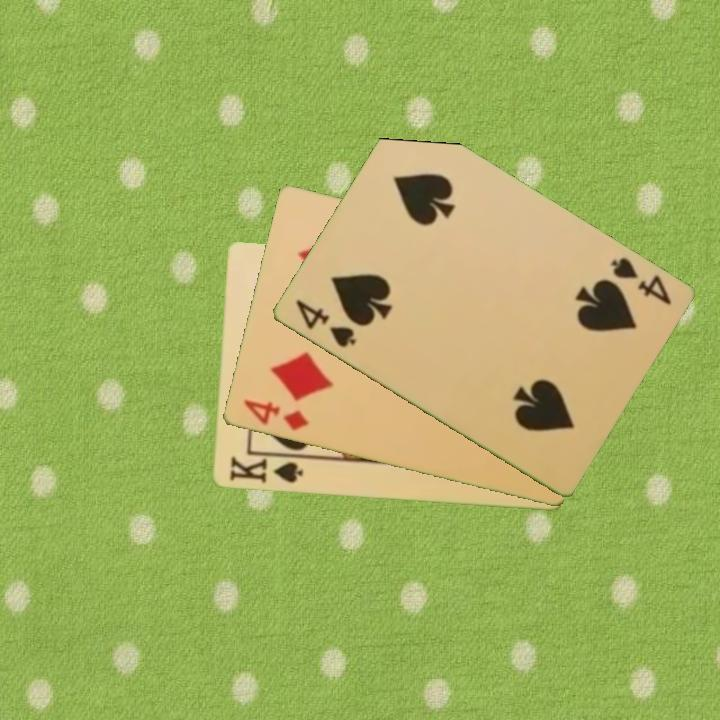4d: (240, 396, 312, 434)
4s: (291, 296, 359, 351), (606, 253, 674, 308)
Ks: (225, 452, 305, 486)
